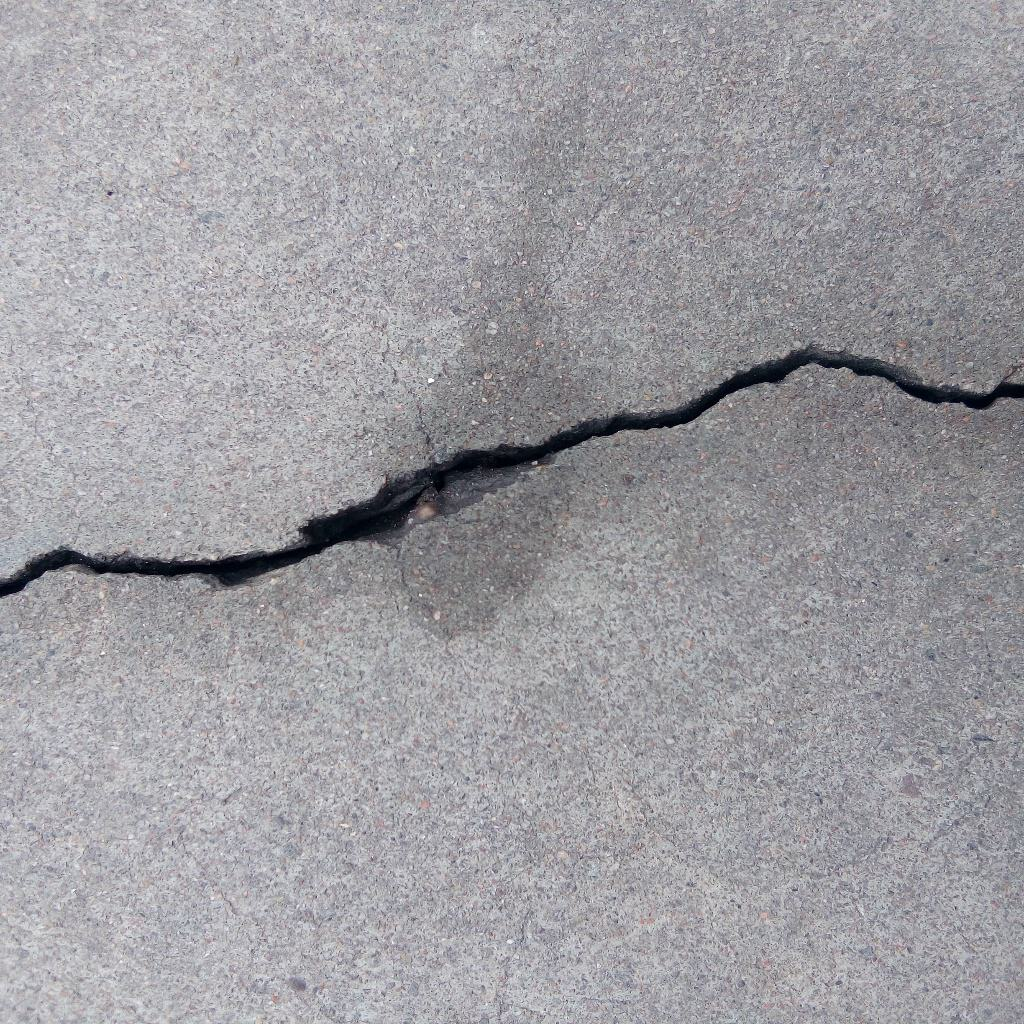Crack: (1, 343, 1024, 597)
